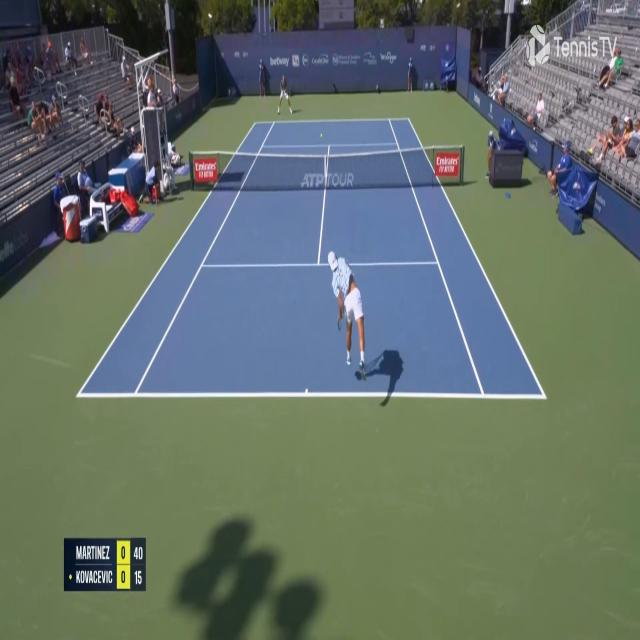tennis-player: (327, 246, 368, 378), (276, 75, 294, 116)
